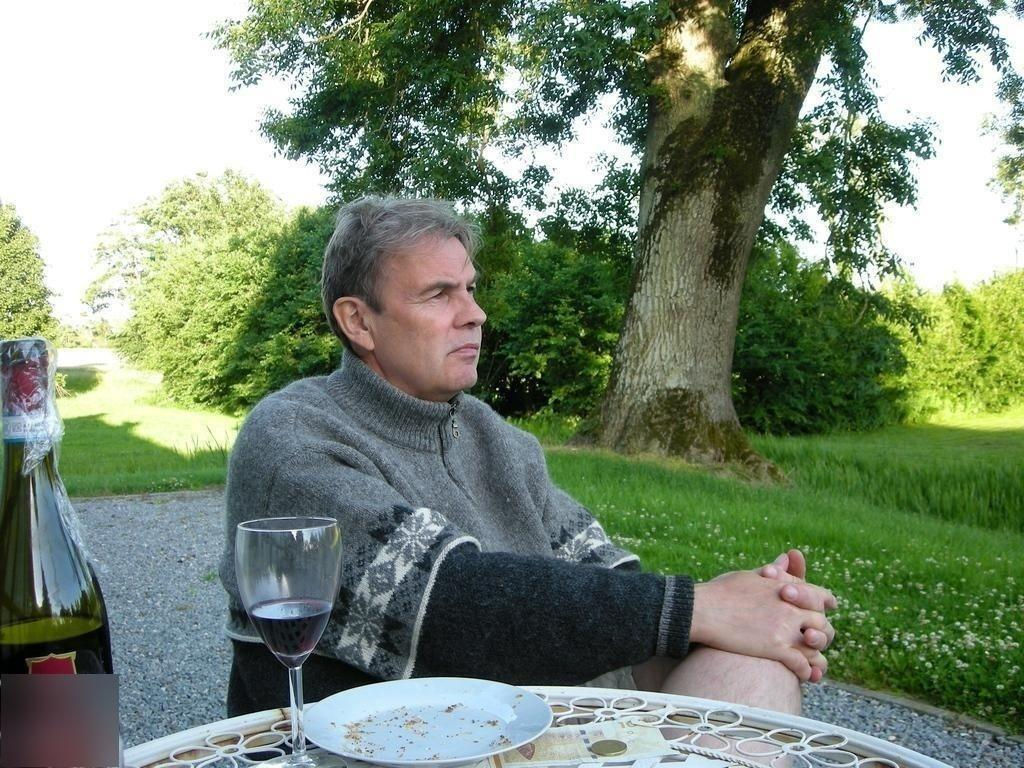bottle-glass: (1, 336, 122, 767)
glass-normal: (233, 512, 351, 768)
